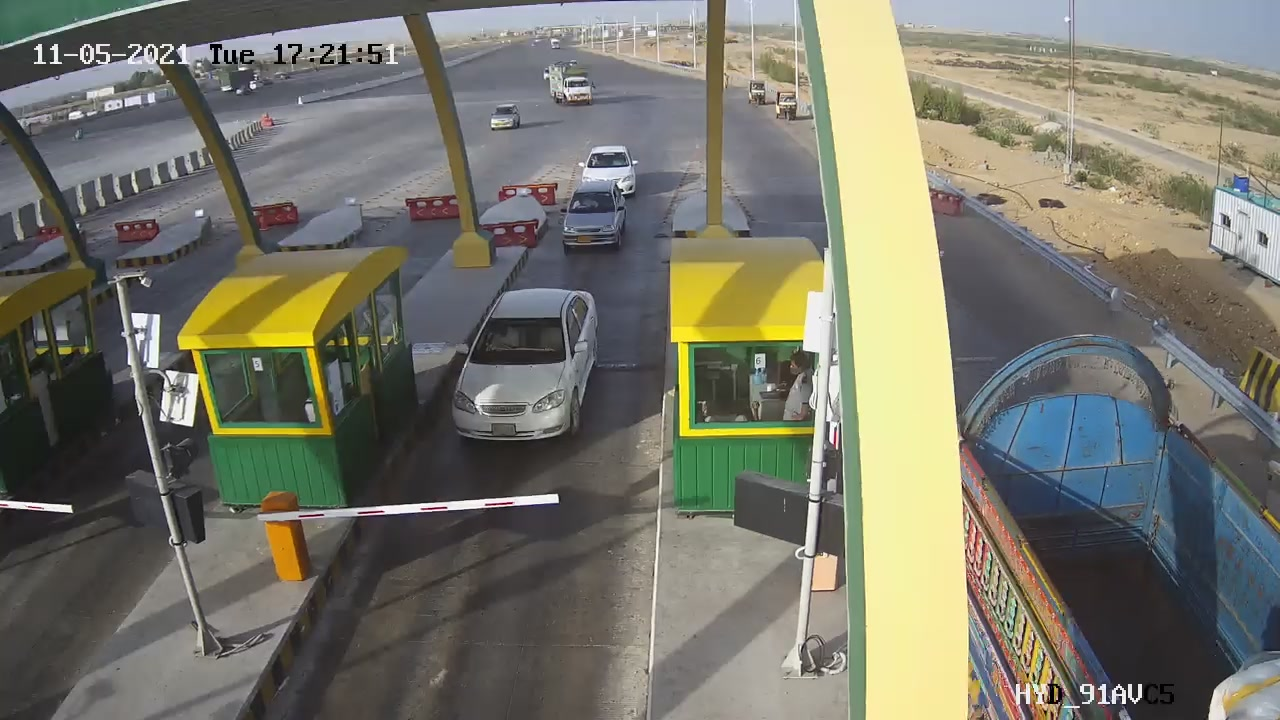F1: (437, 277, 613, 457)
